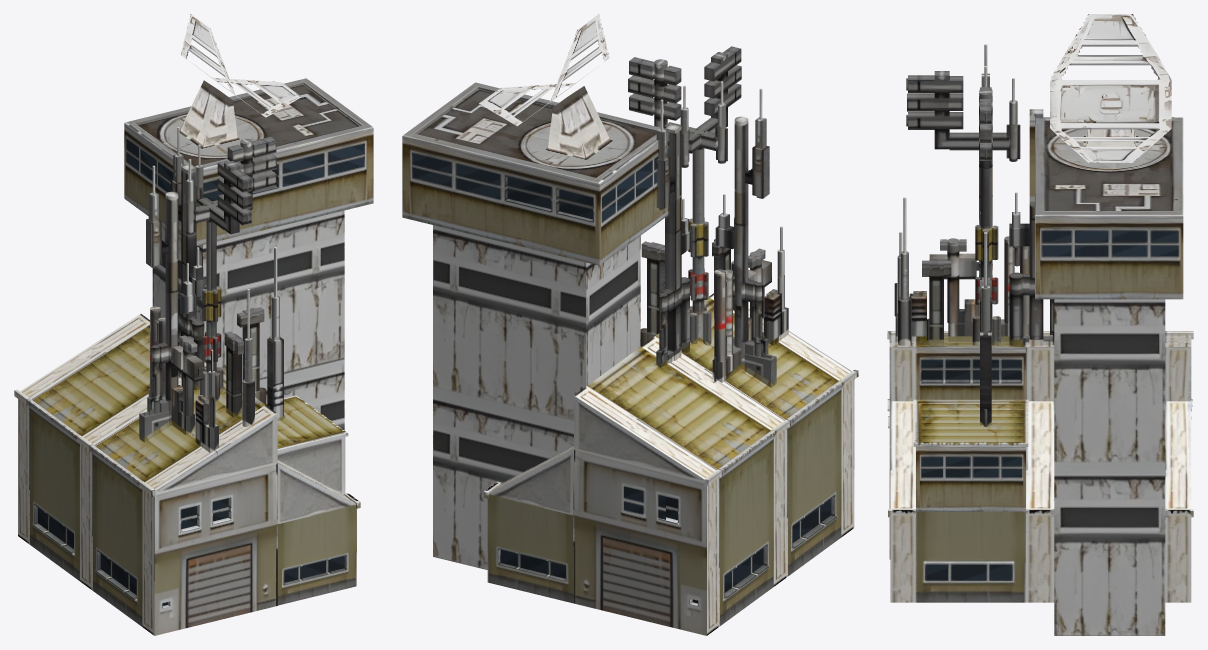
The model's file is d_sensorcontrol_cad.glb.
3 views of the same model, side by side, from view 1: azimuth 30°, elevation 25°; view 2: azimuth 150°, elevation 25°; view 3: azimuth 270°, elevation 25° (orthographic). The views are drawn at different scales.
Visible parts, largest first — view 1: SensorControl, L_Dish; view 2: SensorControl, L_Dish; view 3: SensorControl, L_Dish.
Boxes of the visible parts, bbox=[...] form: SensorControl: bbox=[14, 78, 373, 635]; L_Dish: bbox=[179, 14, 301, 147]; SensorControl: bbox=[402, 46, 858, 635]; L_Dish: bbox=[479, 14, 610, 158]; SensorControl: bbox=[887, 44, 1193, 635]; L_Dish: bbox=[1050, 14, 1171, 162].
Size of the model in its own units: 15.93 by 26.74 by 13.29.
3 materials, 3 textured.
